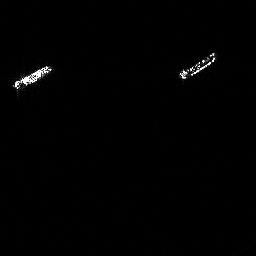ship: (176, 48, 218, 81), (10, 63, 53, 90)
